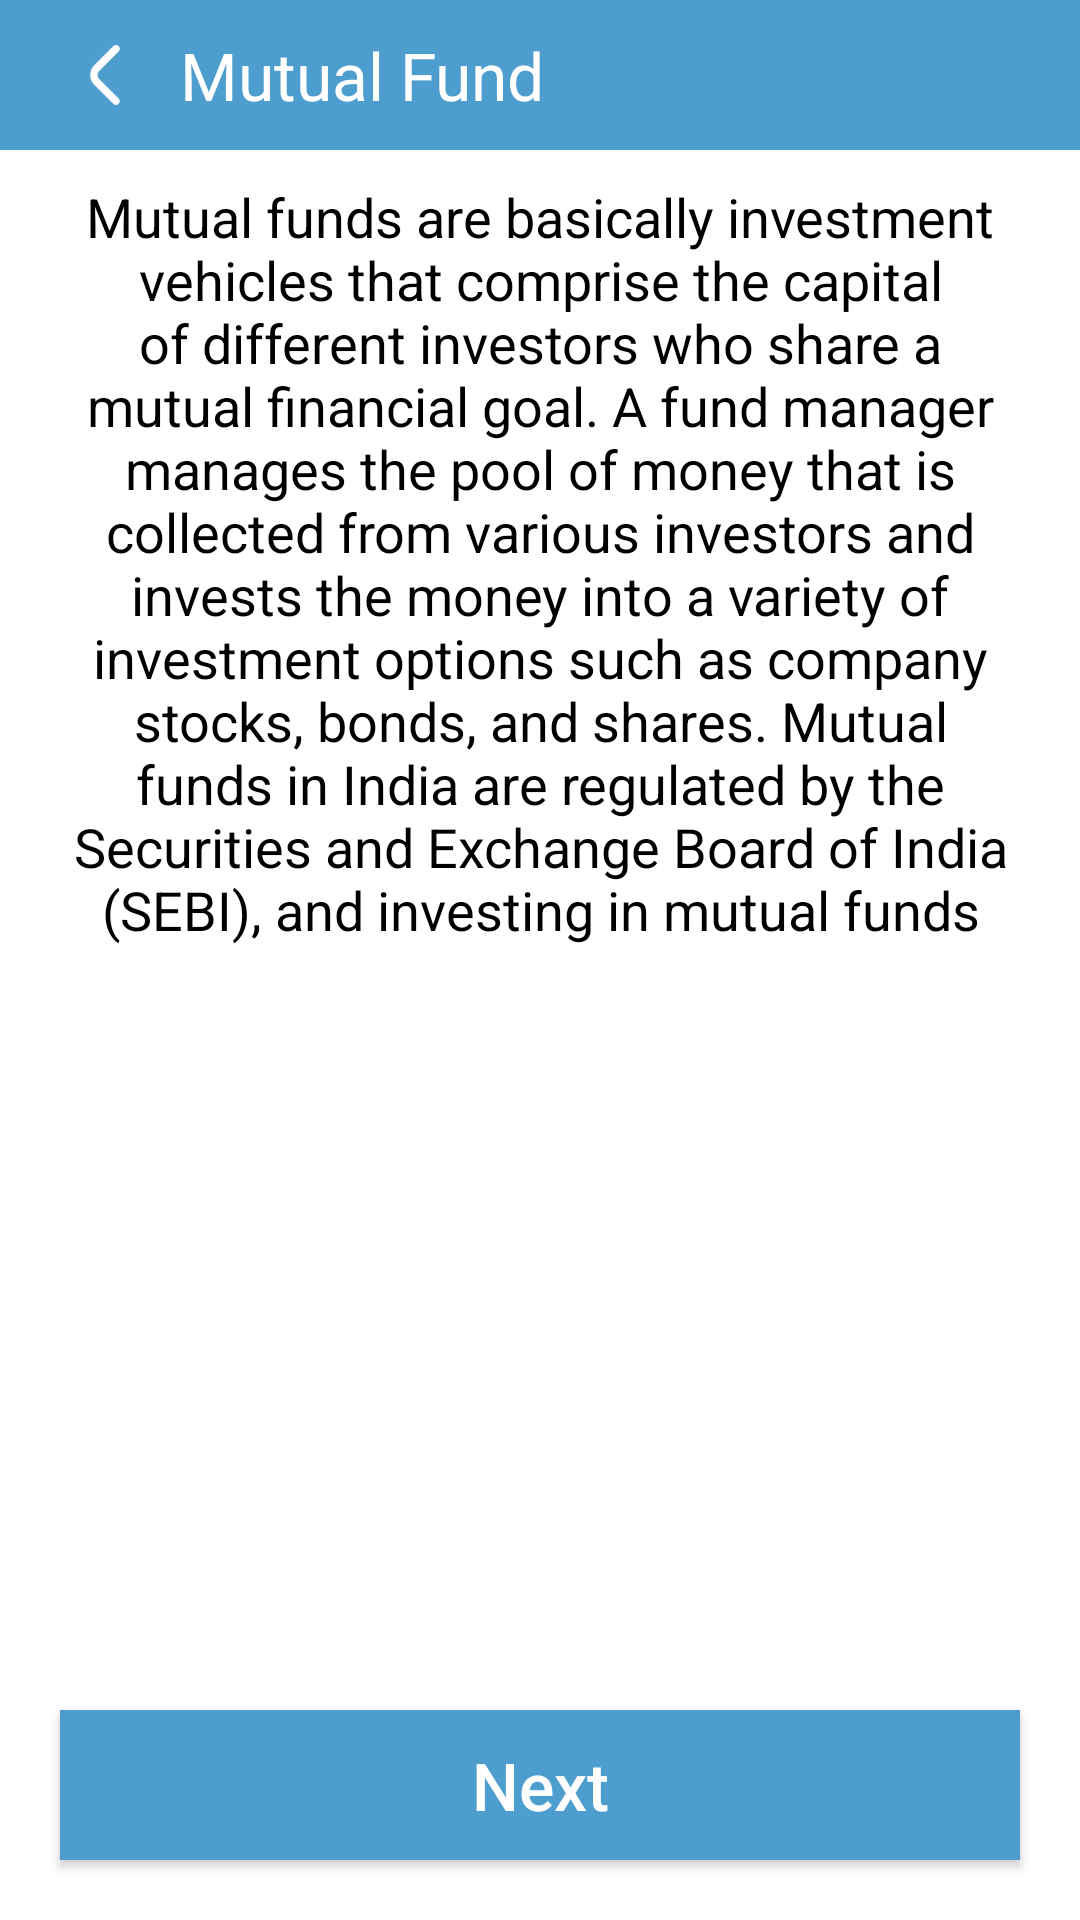

Icon bounding boxes for this 1080 × 1920 phone screenshot, format (x1, y1, x2, y2):
back: (90, 45, 120, 105)
